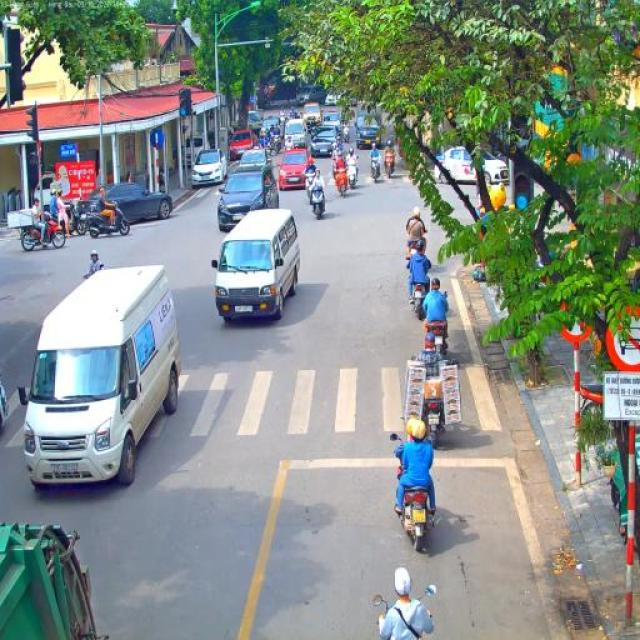bus: (18, 263, 182, 493), (211, 207, 301, 324)
car: (216, 162, 282, 230), (75, 181, 174, 224), (433, 143, 511, 186), (276, 149, 313, 191), (192, 148, 228, 186), (230, 147, 274, 175), (310, 124, 342, 158), (282, 118, 308, 152), (229, 129, 255, 161), (300, 101, 324, 128), (296, 83, 326, 103), (321, 111, 343, 138), (258, 116, 281, 136), (324, 94, 340, 106)
motorcycle: (390, 432, 436, 552), (372, 582, 438, 640), (422, 292, 451, 359), (20, 213, 66, 252), (88, 203, 132, 238), (418, 398, 447, 448), (66, 200, 96, 236), (575, 384, 605, 418), (408, 280, 428, 320), (306, 184, 326, 220), (300, 173, 316, 206), (333, 166, 349, 198), (345, 160, 359, 190), (408, 240, 422, 269), (369, 156, 382, 183), (384, 149, 396, 175), (332, 148, 344, 167), (271, 136, 283, 154), (260, 141, 272, 157), (310, 124, 320, 140), (342, 126, 351, 142), (279, 117, 287, 133)
truck: (0, 520, 108, 640), (356, 104, 390, 150), (246, 110, 263, 144)
